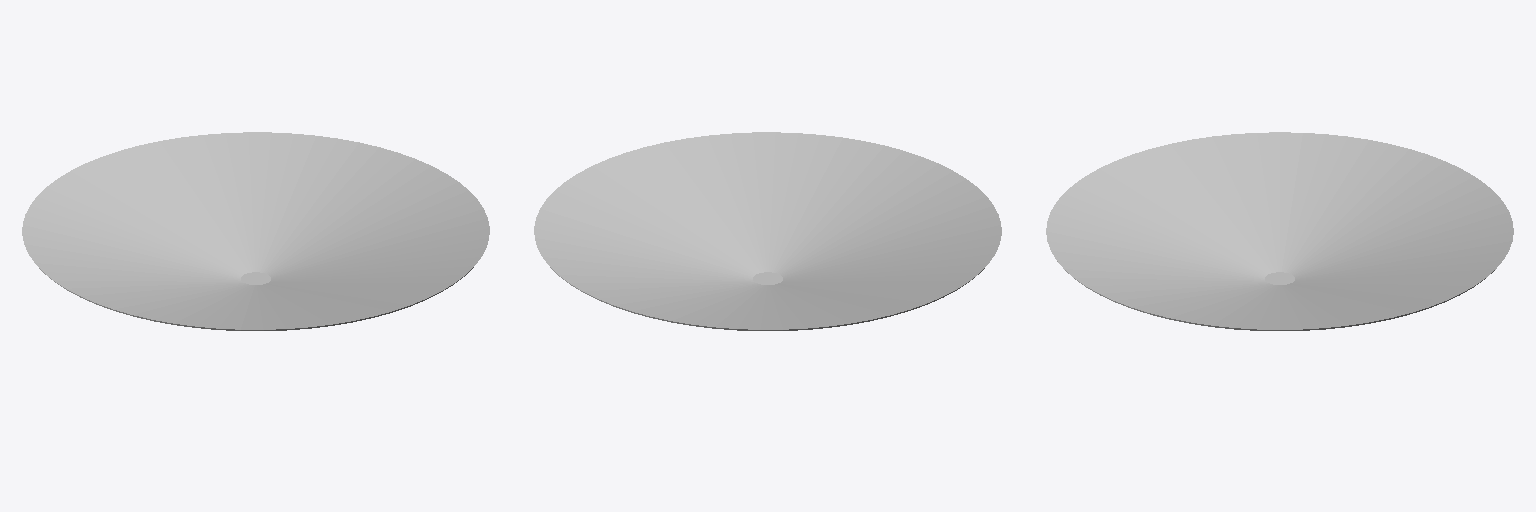
The model's file is drumsetV4_Hi-Hat001_Keyframe.obj.
3 views of the same model, side by side, from view 1: azimuth 30°, elevation 25°; view 2: azimuth 150°, elevation 25°; view 3: azimuth 270°, elevation 25° (orthographic).
Parts seen in each view (by area): view 1: drumsetV4_Hi-Hat001_Cylinder.034; view 2: drumsetV4_Hi-Hat001_Cylinder.034; view 3: drumsetV4_Hi-Hat001_Cylinder.034.
Part boxes in pixels (left/top/right/bottom): drumsetV4_Hi-Hat001_Cylinder.034: left=22, top=132, right=489, bottom=330; drumsetV4_Hi-Hat001_Cylinder.034: left=534, top=132, right=1001, bottom=330; drumsetV4_Hi-Hat001_Cylinder.034: left=1046, top=132, right=1513, bottom=330.
Bounding box in the file's own units: 0.8717 × 0.1022 × 0.8717.